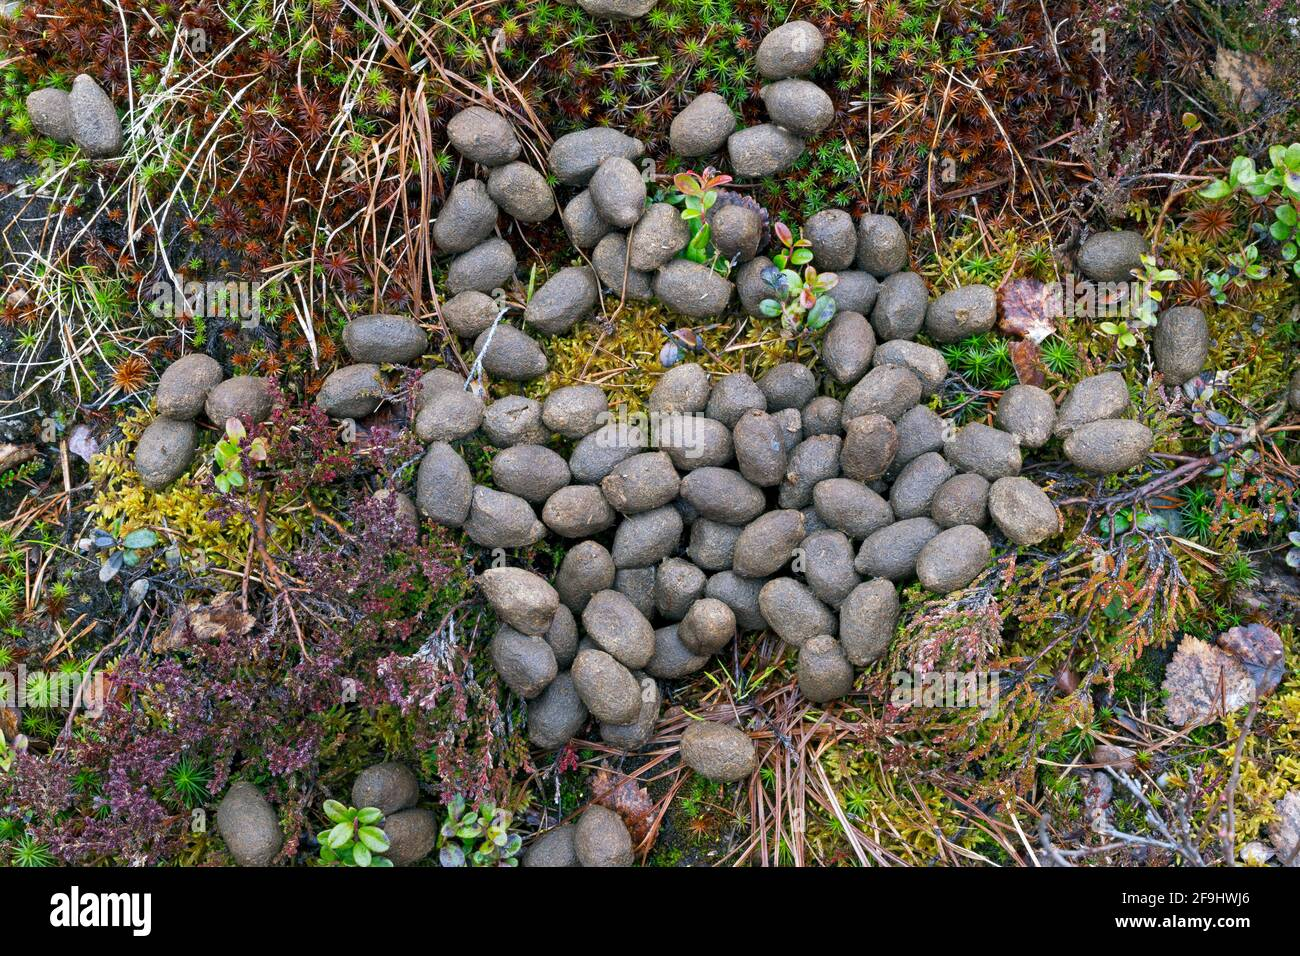Elk: (437, 119, 1024, 677)
